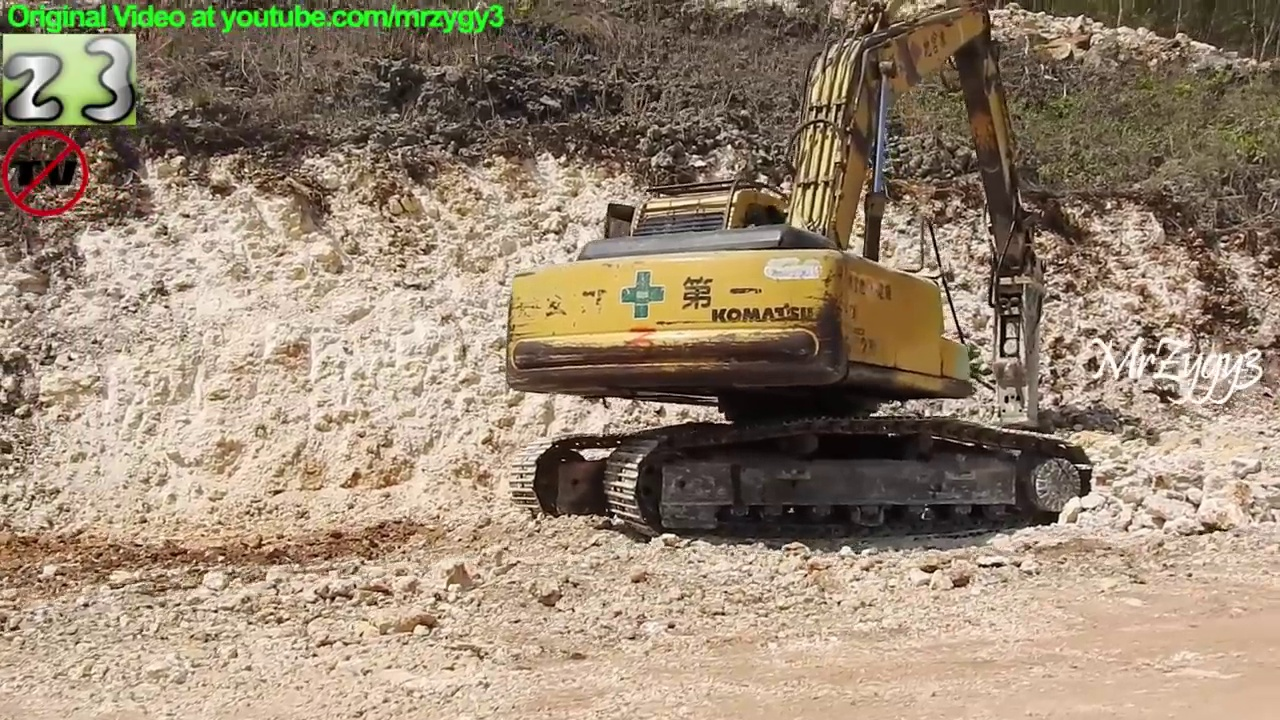excavator breaker: (496, 1, 1107, 555)
